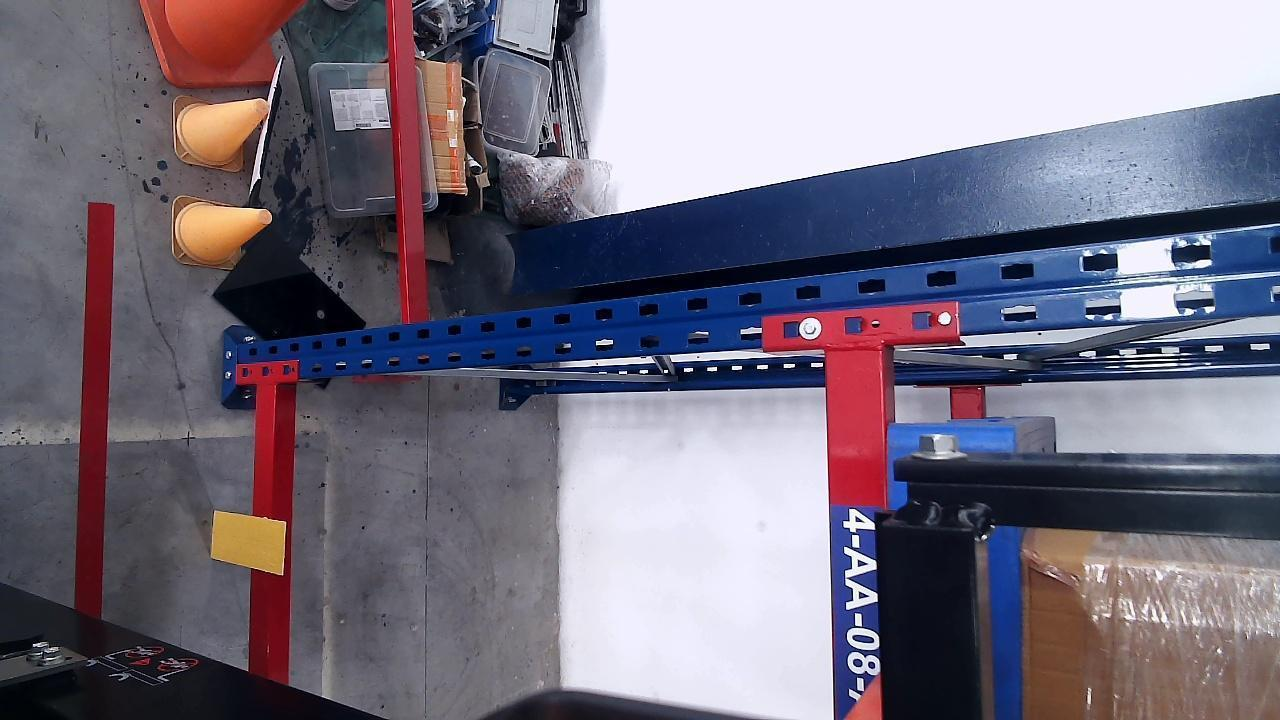red_line: (78, 201, 116, 620)
